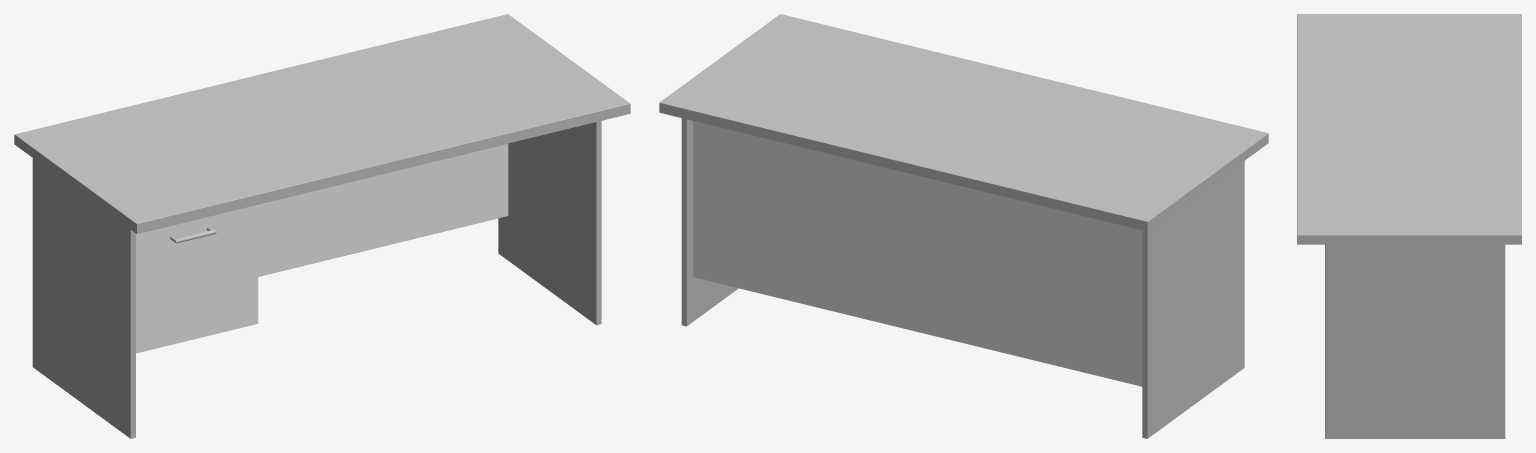
File: Office table.FBX
3 views of the same model, side by side, from view 1: azimuth 30°, elevation 25°; view 2: azimuth 150°, elevation 25°; view 3: azimuth 270°, elevation 25° (orthographic). The views are drawn at different scales.
Visible parts, largest first — view 1: Office table; view 2: Office table; view 3: Office table.
Boxes of the visible parts, <box> form: Office table: <box>14,14,630,438</box>; Office table: <box>659,14,1268,438</box>; Office table: <box>1297,14,1521,438</box>.
Bounding box in the file's own units: 172 × 75.92 × 73.74.
